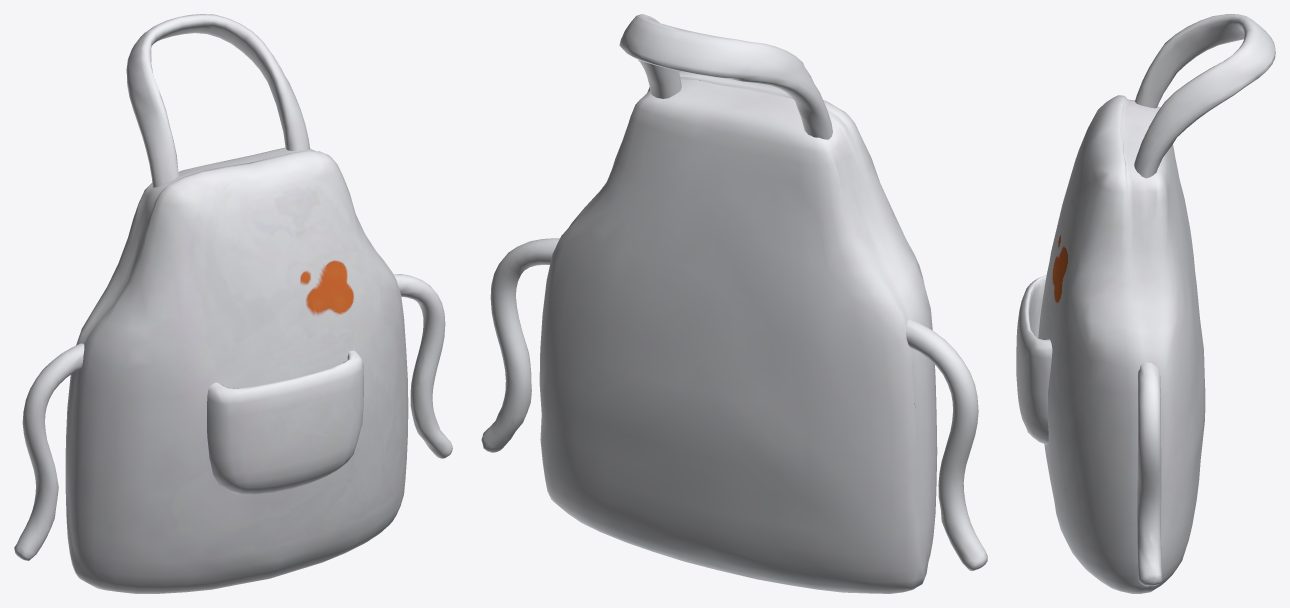
Rendered from body_apron.glb.
3 views of the same model, side by side, from view 1: azimuth 30°, elevation 25°; view 2: azimuth 150°, elevation 25°; view 3: azimuth 270°, elevation 25° (orthographic). The views are drawn at different scales.
Visible parts, largest first — view 1: geometry_0; view 2: geometry_0; view 3: geometry_0.
Boxes of the visible parts, x1,y1,x2,y2 form: geometry_0: [14, 14, 452, 593]; geometry_0: [481, 14, 987, 593]; geometry_0: [1016, 14, 1275, 593].
Bounding box in the file's own units: 0.8516 × 0.9517 × 0.4414.
Materials: 1 (1 with a texture image).
